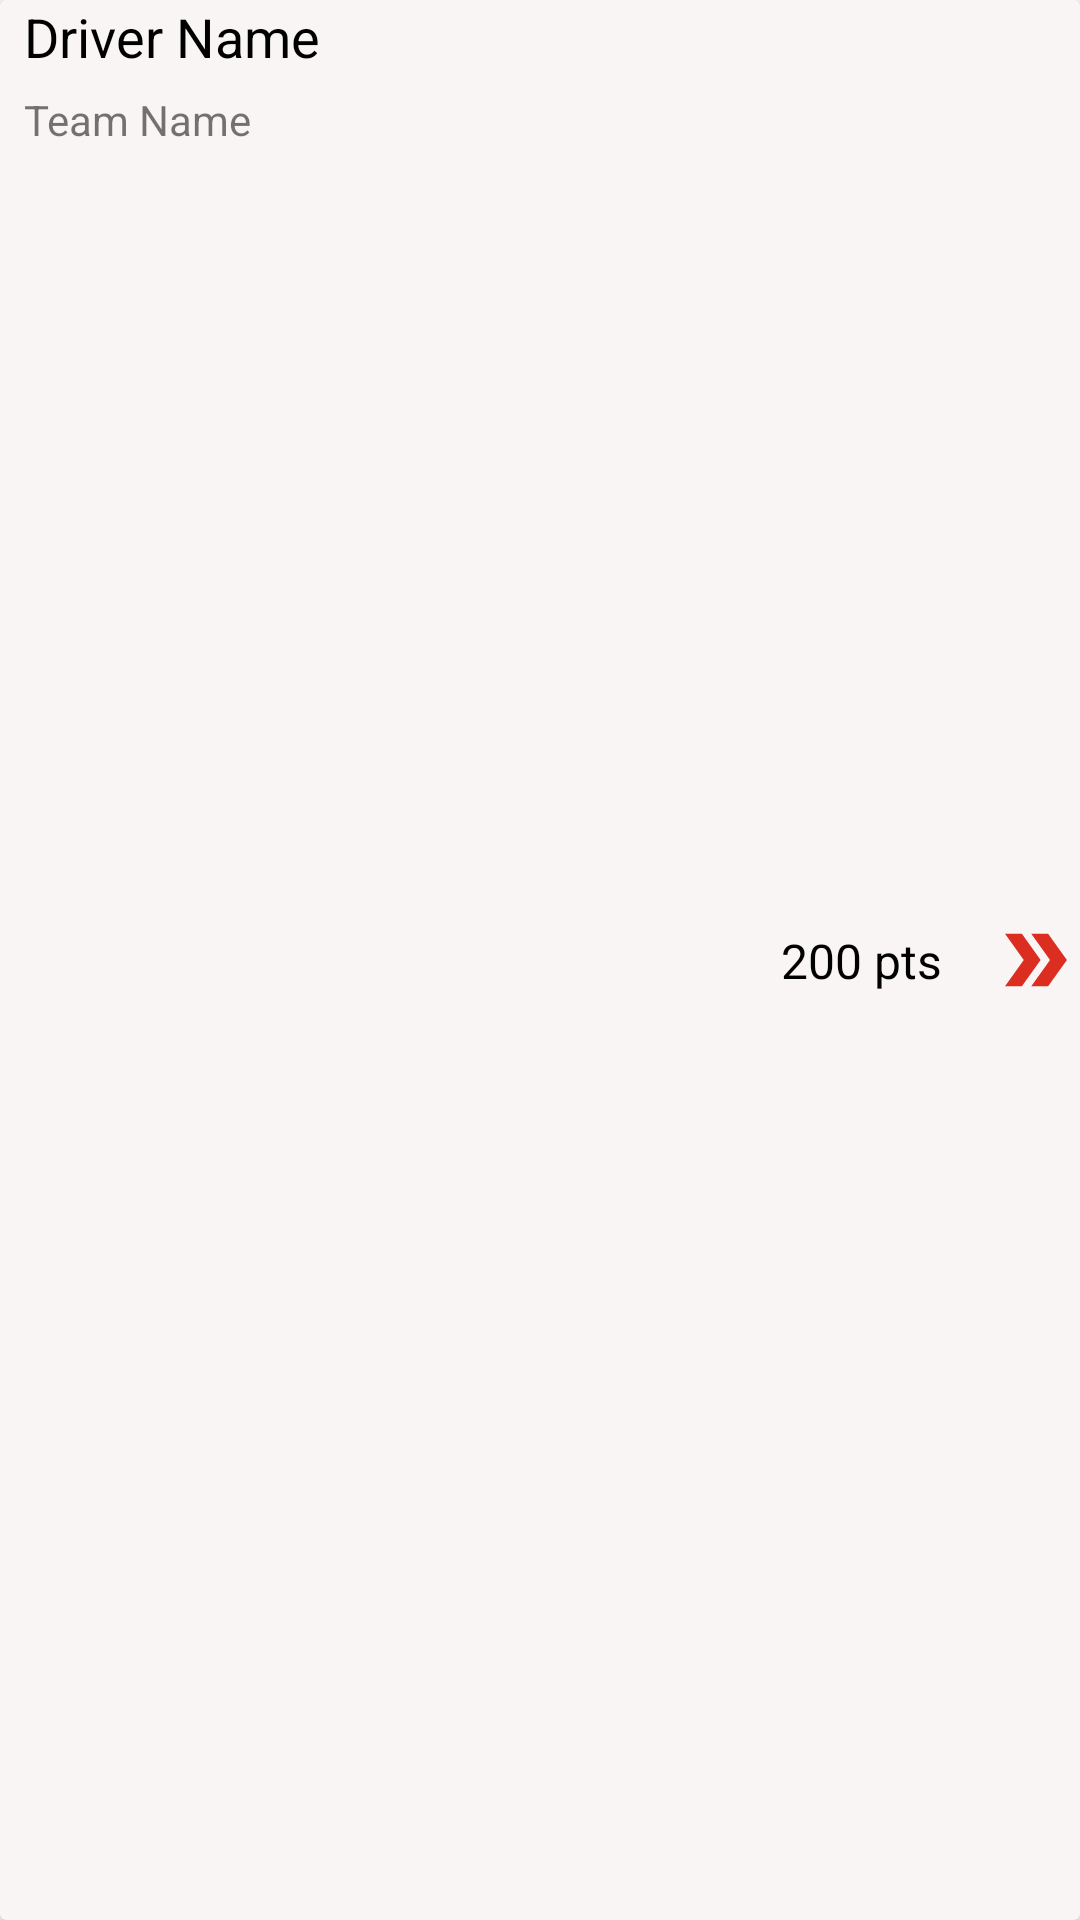

Locate icon controls on the screen. Image size 1080px x 1920px, boxes as (x1, y1, x2, y2).
double arrow: (1005, 933, 1067, 987)
